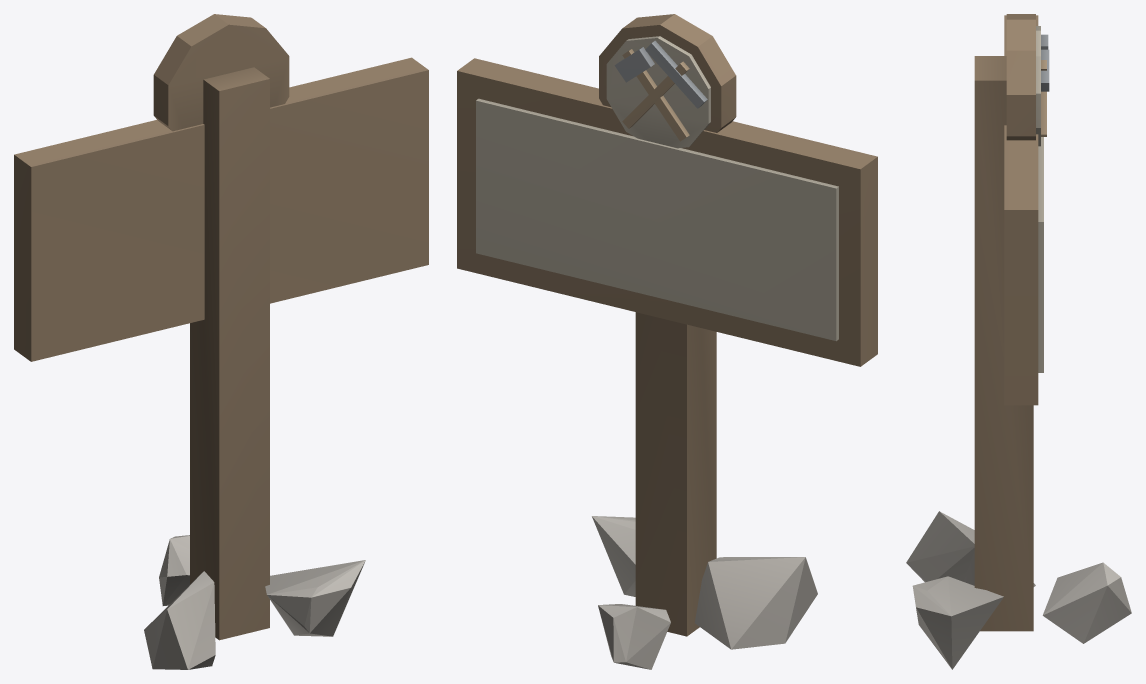
The model's file is sign_quarry_low.glb.
3 views of the same model, side by side, from view 1: azimuth 30°, elevation 25°; view 2: azimuth 150°, elevation 25°; view 3: azimuth 270°, elevation 25° (orthographic).
Bounding box in the file's own units: 0.94 × 1.38 × 0.4611.
